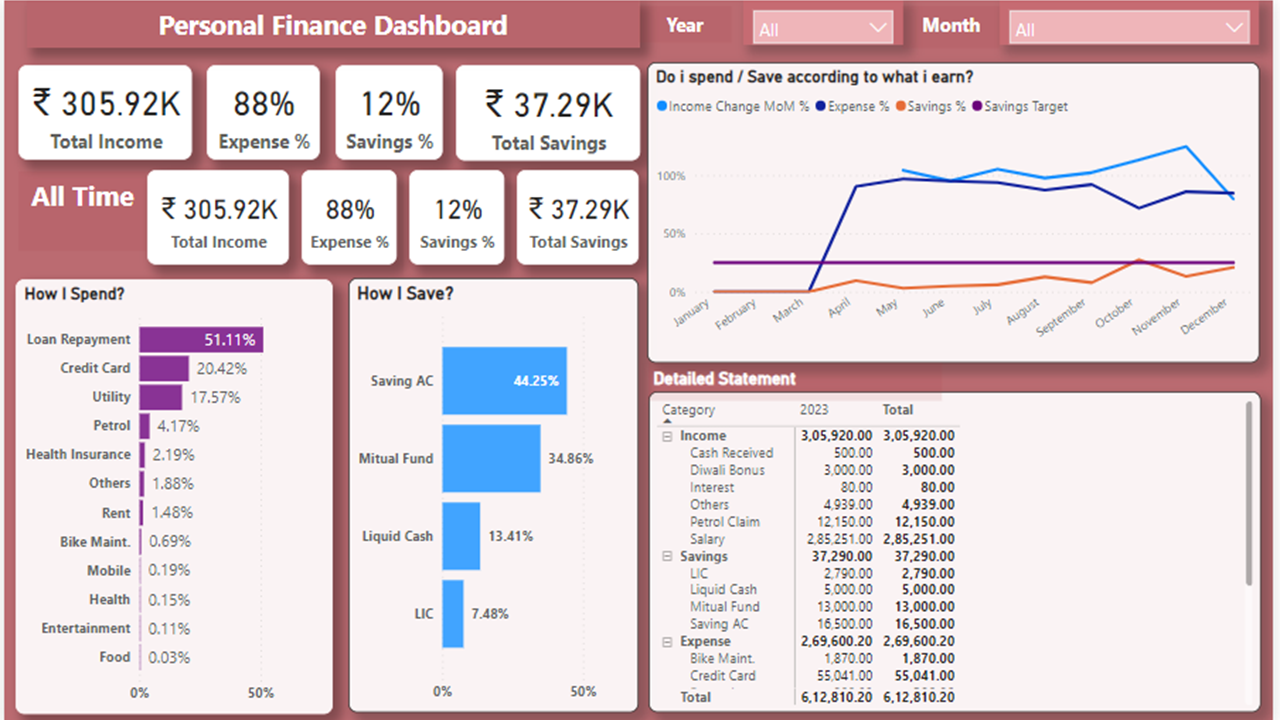

Layout of this report page (visuals, bound fields, positions):
{"tool":"powerbi","page":{"name":"Dashboard","canvas":[1280,720],"ordinal":0},"visuals":[{"type":"card","fields":{"Values":["Key Measures.Total Income"]},"box":[14.4,64.1,175.4,94.3],"z":0},{"type":"card","fields":{"Values":["Key Measures.Expense %"]},"box":[204.7,64.1,114.2,94.1],"z":1000},{"type":"card","fields":{"Values":["Key Measures.Savings %"]},"box":[333.9,64.1,107.5,94.1],"z":2000},{"type":"card","fields":{"Values":["Key Measures.Total Savings"]},"box":[456.3,64.1,185.9,95.1],"z":3000},{"type":"card","fields":{"Values":["Key Measures.Total Income"]},"box":[143.9,168.2,142.8,94.1],"z":4000},{"type":"card","fields":{"Values":["Key Measures.Expense %"]},"box":[299.5,168.2,95.7,94.1],"z":5000},{"type":"card","fields":{"Values":["Key Measures.Savings %"]},"box":[408.2,168.2,95.7,94.1],"z":6000},{"type":"card","fields":{"Values":["Key Measures.Total Savings"]},"box":[516.8,168.2,122.6,94.1],"z":7000},{"type":"textbox","box":[14.5,169.9,129.3,79],"z":8000},{"type":"clusteredBarChart","title":"How I Spend?","fields":{"Category":["Statement.Subcategory"],"Y":["Key Measures.Total Expenses"]},"box":[11.7,276.6,320.5,431.7],"z":9000},{"type":"clusteredBarChart","title":"How I Save?","fields":{"Category":["Statement.Subcategory"],"Y":["Key Measures.Total Savings"]},"box":[346.9,276.2,293.2,432],"z":10000},{"type":"textbox","box":[22.3,0,617.9,47.1],"z":11000},{"type":"slicer","fields":{"Values":["Statement.Month"]},"box":[1004.7,0,261.5,44],"z":12000},{"type":"lineChart","title":"Do i spend / Save according to what i earn?","fields":{"Y":["Key Measures.Income Change MoM %","Key Measures.Expense %","Key Measures.Savings %","Key Measures.Savings Target"],"Category":["Date Table.Date.Variation.Date Hierarchy.Month"]},"box":[648.3,61.5,617.6,298.5],"z":13000},{"type":"slicer","fields":{"Values":["Date Table.Date.Variation.Date Hierarchy.Year"]},"box":[746.1,0,161,43.9],"z":14000},{"type":"textbox","box":[640,5.5,93.6,35.8],"z":15000},{"type":"textbox","box":[905.9,5.2,99.5,41.9],"z":16000},{"type":"pivotTable","fields":{"Rows":["Order.Category","Statement.Subcategory"],"Values":["Sum(Statement.Values)"],"Columns":["Date Table.Date.Variation.Date Hierarchy.Year"]},"box":[649.3,388.8,617.9,319.4],"z":17000},{"type":"textbox","box":[649.3,360,295.9,38],"z":18000}]}

Visuals, with their boxes in screenshot pixels (x1, y1, x2, y2), scaled from the page's 1280x720 canvas onto the 1280x720 screenshot:
card - Key Measures.Total Income: (left=14, top=64, right=190, bottom=158)
card - Key Measures.Expense %: (left=205, top=64, right=319, bottom=158)
card - Key Measures.Savings %: (left=334, top=64, right=441, bottom=158)
card - Key Measures.Total Savings: (left=456, top=64, right=642, bottom=159)
card - Key Measures.Total Income: (left=144, top=168, right=287, bottom=262)
card - Key Measures.Expense %: (left=300, top=168, right=395, bottom=262)
card - Key Measures.Savings %: (left=408, top=168, right=504, bottom=262)
card - Key Measures.Total Savings: (left=517, top=168, right=639, bottom=262)
textbox: (left=14, top=170, right=144, bottom=249)
"How I Spend?" clusteredBarChart: (left=12, top=277, right=332, bottom=708)
"How I Save?" clusteredBarChart: (left=347, top=276, right=640, bottom=708)
textbox: (left=22, top=0, right=640, bottom=47)
slicer - Statement.Month: (left=1005, top=0, right=1266, bottom=44)
"Do i spend / Save according to what i earn?" lineChart: (left=648, top=62, right=1266, bottom=360)
slicer - Date Table.Date.Variation.Date Hierarchy.Year: (left=746, top=0, right=907, bottom=44)
textbox: (left=640, top=6, right=734, bottom=41)
textbox: (left=906, top=5, right=1005, bottom=47)
pivotTable - Order.Category x Statement.Subcategory: (left=649, top=389, right=1267, bottom=708)
textbox: (left=649, top=360, right=945, bottom=398)
